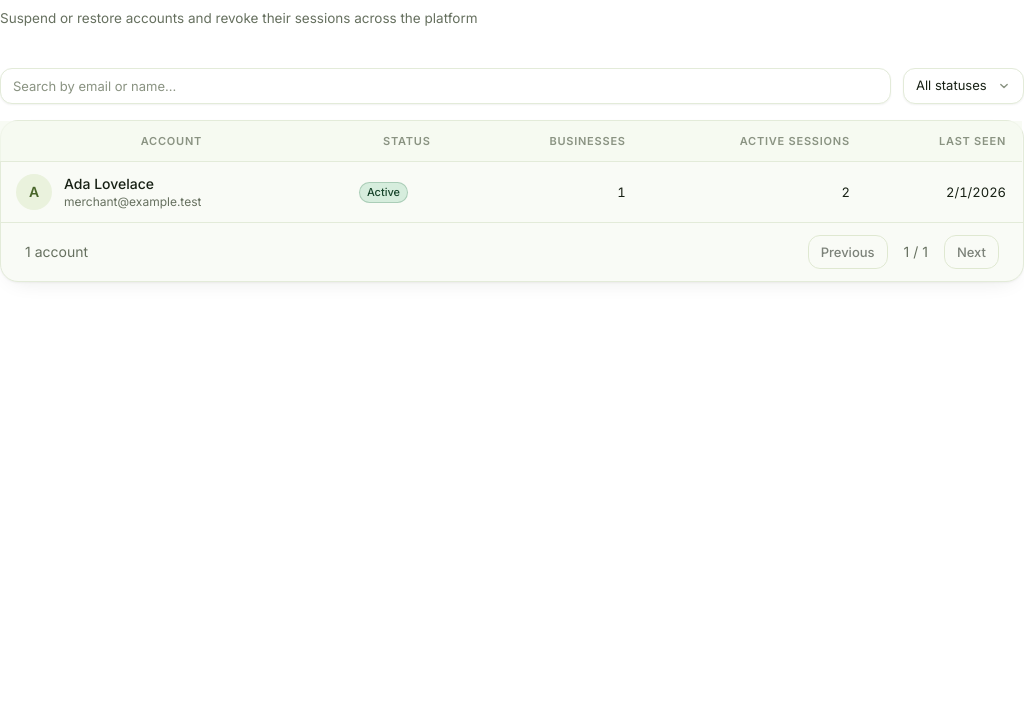
Test: platform accounts page › toggles a marketing channel immediately, without a dialog
Click the button "A Ada Lovelace merchant@example.test Active 1 2 2/1/2026".
click(34, 192)  # box [0, 162, 1022, 222]
(page scrolled)
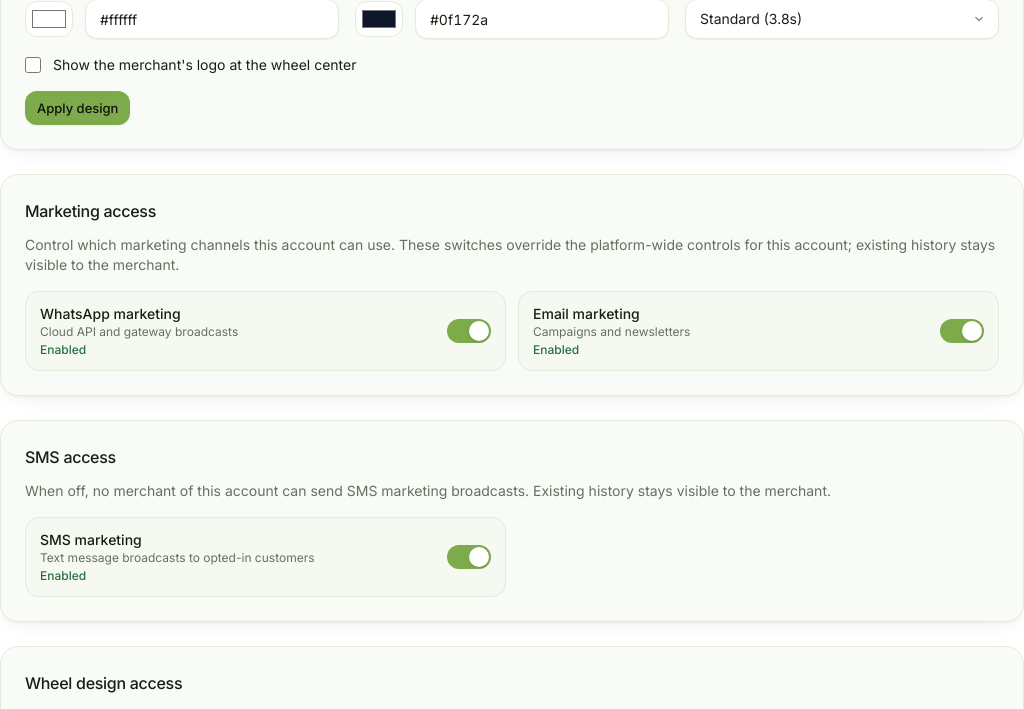
Check: the heading "Marketing access" is shown, box [25, 201, 156, 221]
Click the switch named "WhatsApp marketing".
click(469, 331)  # box [447, 319, 491, 343]
(page scrolled)
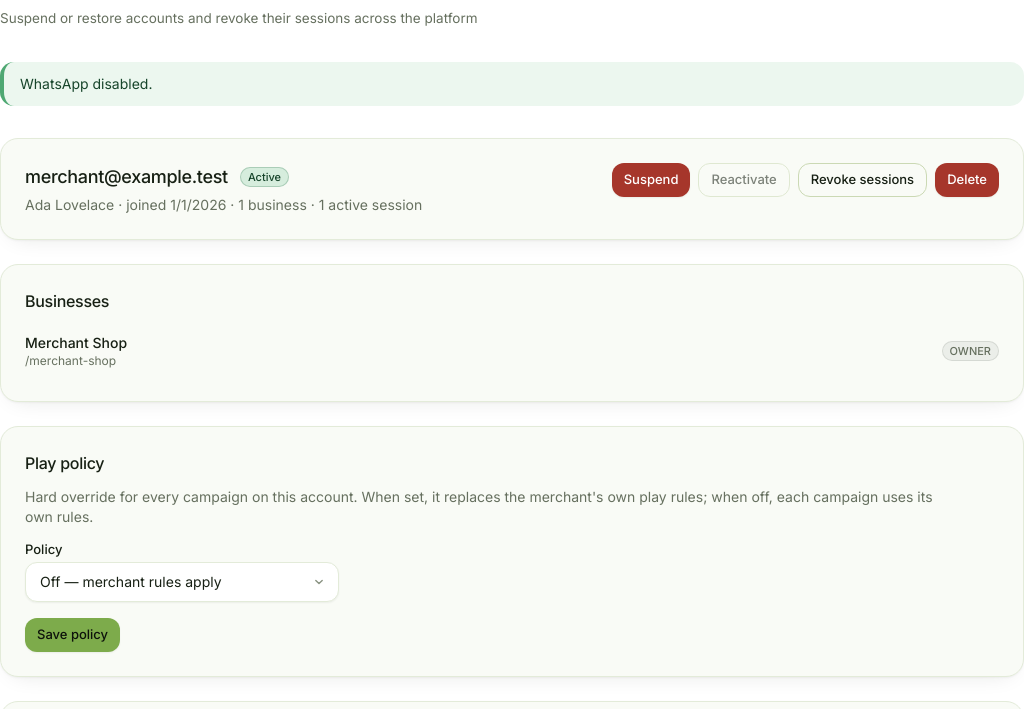
Check: the message reads "WhatsApp disabled.", box [20, 75, 152, 92]
